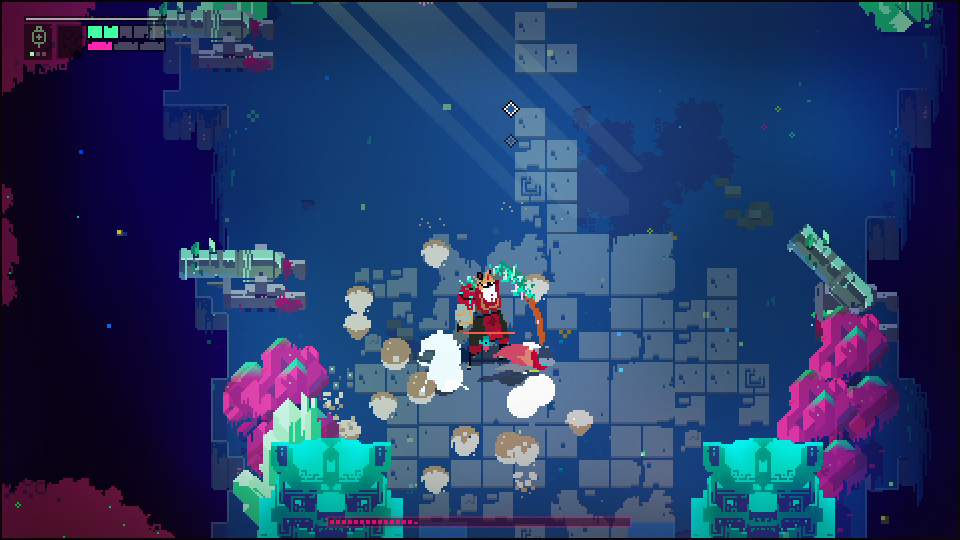hanged_man: (448, 261, 550, 357)
player: (489, 335, 559, 375)
